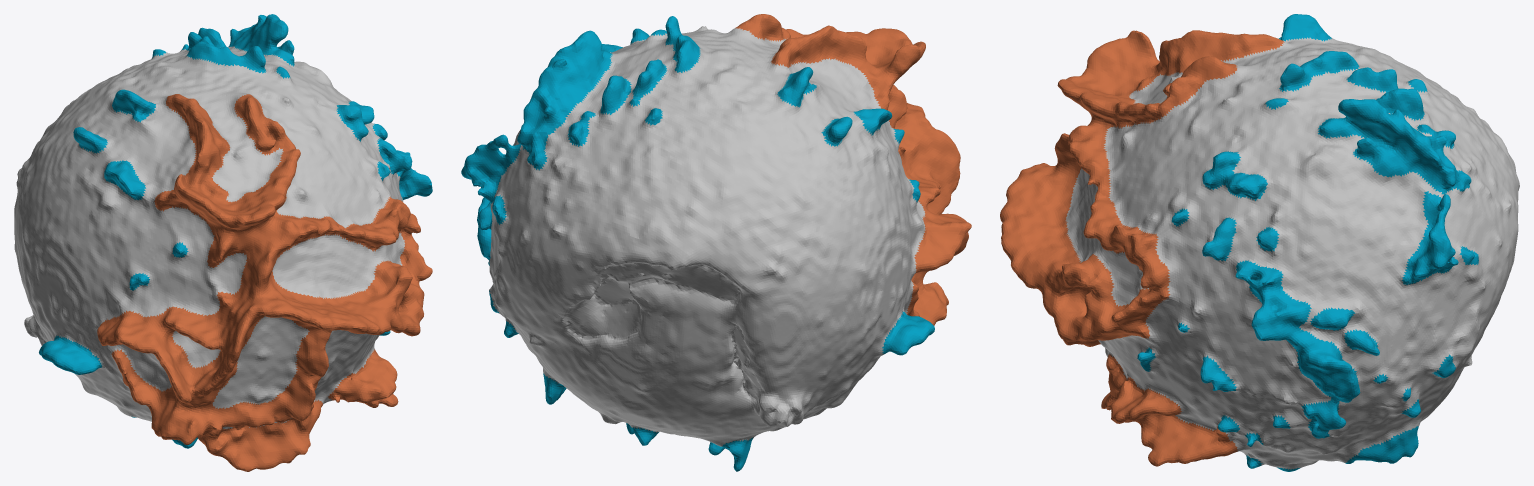
3 views of the same model, side by side, from view 1: azimuth 30°, elevation 25°; view 2: azimuth 150°, elevation 25°; view 3: azimuth 270°, elevation 25° (orthographic). The views are drawn at different scales.
Size of the model in its own units: 152 by 140 by 163.
